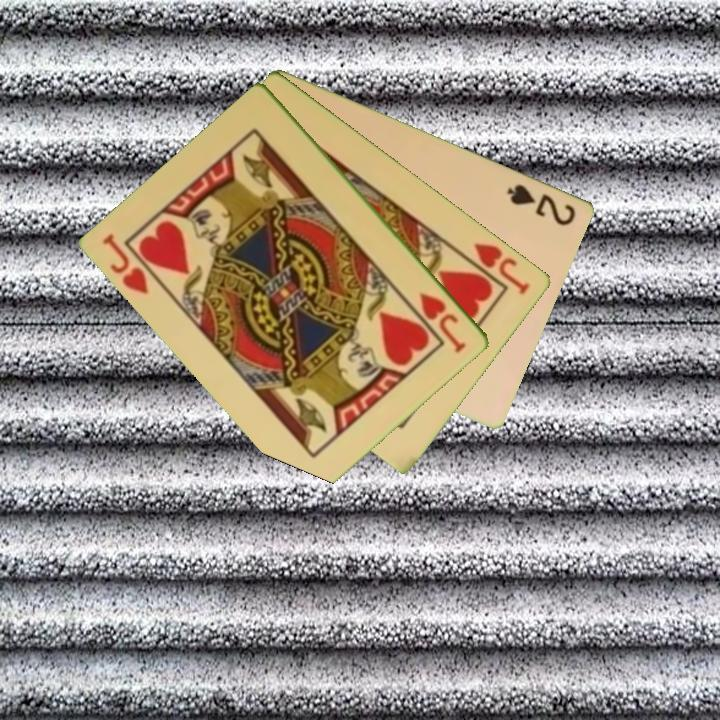2s: (504, 180, 579, 229)
Jh: (471, 239, 534, 298), (416, 289, 470, 357), (99, 230, 153, 298)
